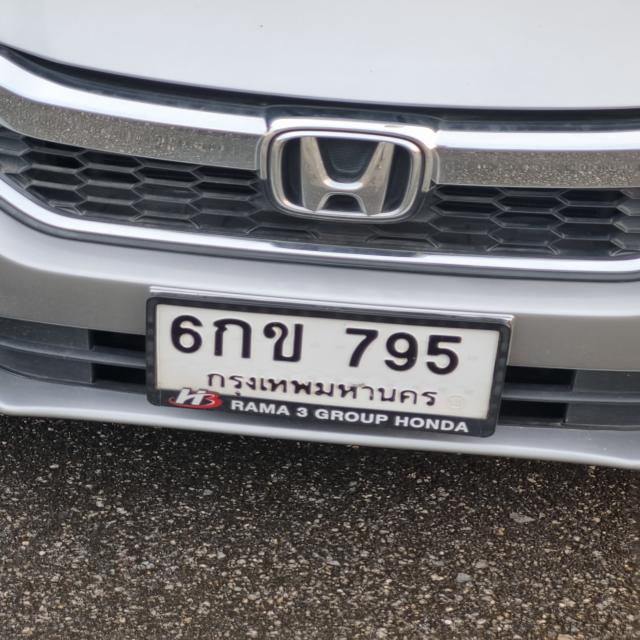license_plate: (140, 282, 511, 438)
